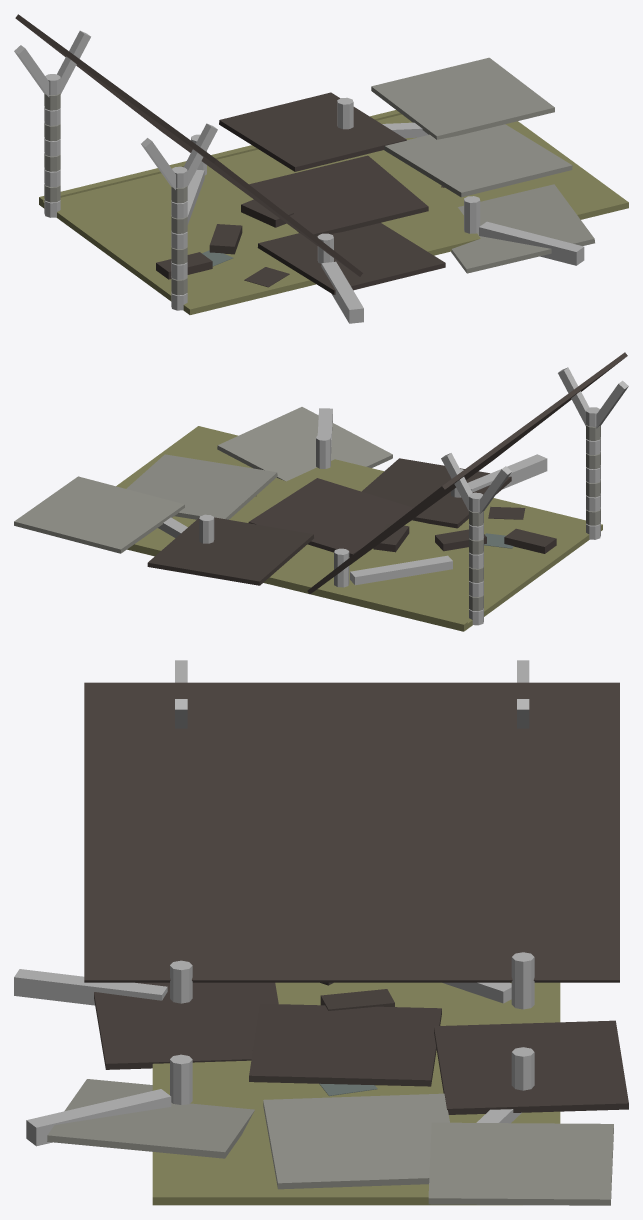
File: SM_MarquesinaBus_v4_Quemada_e2_MuyDanado_LOD0.fbx
3 renders of one model, top to bottom at view 1: azimuth 30°, elevation 25°; view 2: azimuth 150°, elevation 25°; view 3: azimuth 270°, elevation 25°, orthographic. The views are drawn at different scales.
Parts seen in each view (by area): view 1: SM_marquesina_bus_v18_LOD0; view 2: SM_marquesina_bus_v18_LOD0; view 3: SM_marquesina_bus_v18_LOD0.
Part boxes in pixels (x1,y1,x2,y2): SM_marquesina_bus_v18_LOD0: (14,14,628,323); SM_marquesina_bus_v18_LOD0: (14,352,628,631); SM_marquesina_bus_v18_LOD0: (14,660,628,1205).
Bounding box in the file's own units: 13.82 × 4.63 × 10.79.
